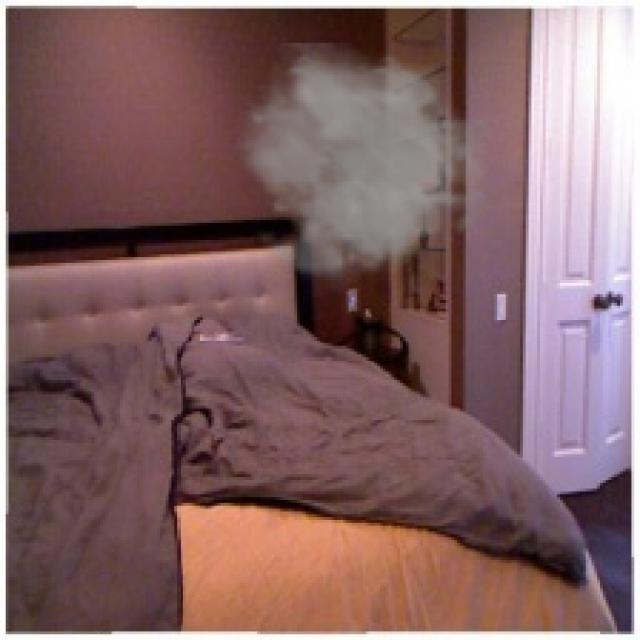smoke: (232, 43, 497, 297)
